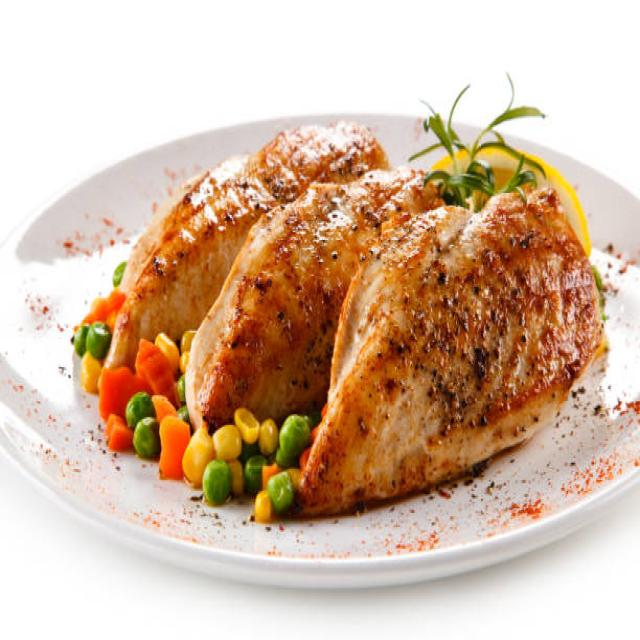Frango: (95, 113, 605, 511)
